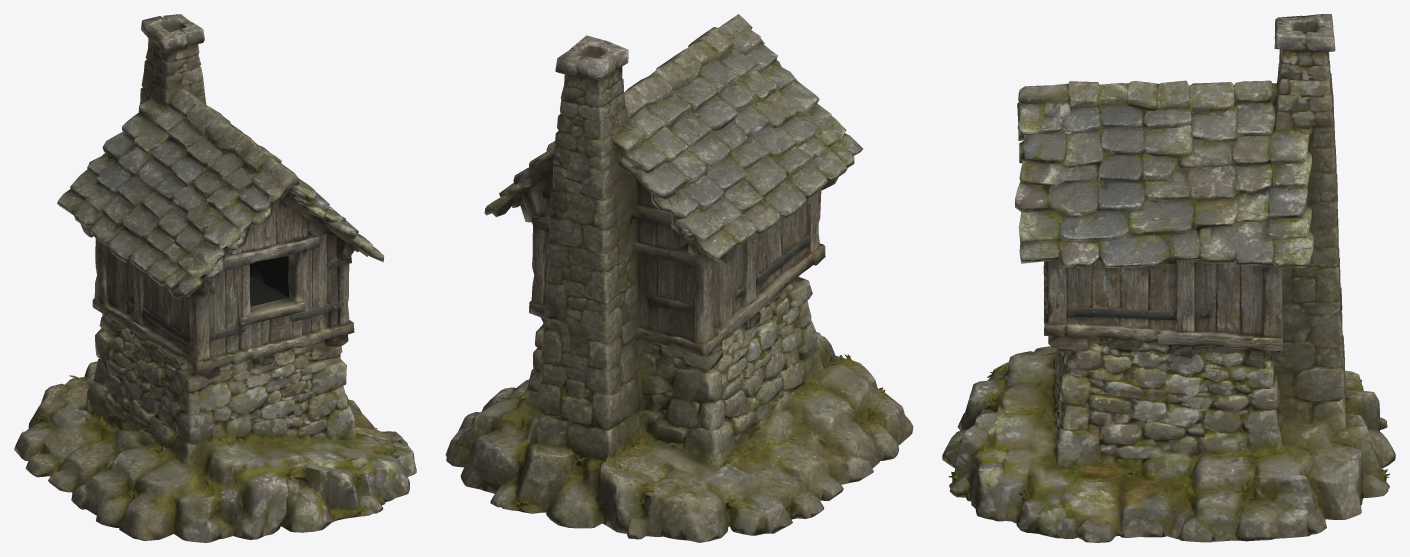
File: watch_hut_tripo.glb
The picture shows the model from 3 angles, left to right: view 1: azimuth 30°, elevation 25°; view 2: azimuth 150°, elevation 25°; view 3: azimuth 270°, elevation 25°; orthographic projection. The views are drawn at different scales.
Visible parts, largest first — view 1: tripo_node_9e425a68-3715-49d1-b0c4-8cb8055820d1; view 2: tripo_node_9e425a68-3715-49d1-b0c4-8cb8055820d1; view 3: tripo_node_9e425a68-3715-49d1-b0c4-8cb8055820d1.
Boxes of the visible parts, x1,y1,x2,y2 form: tripo_node_9e425a68-3715-49d1-b0c4-8cb8055820d1: (14, 14, 416, 542); tripo_node_9e425a68-3715-49d1-b0c4-8cb8055820d1: (445, 14, 913, 542); tripo_node_9e425a68-3715-49d1-b0c4-8cb8055820d1: (942, 14, 1395, 542).
Size of the model in its own units: 0.8431 by 1 by 0.9321.
Materials: 1 (1 with a texture image).
